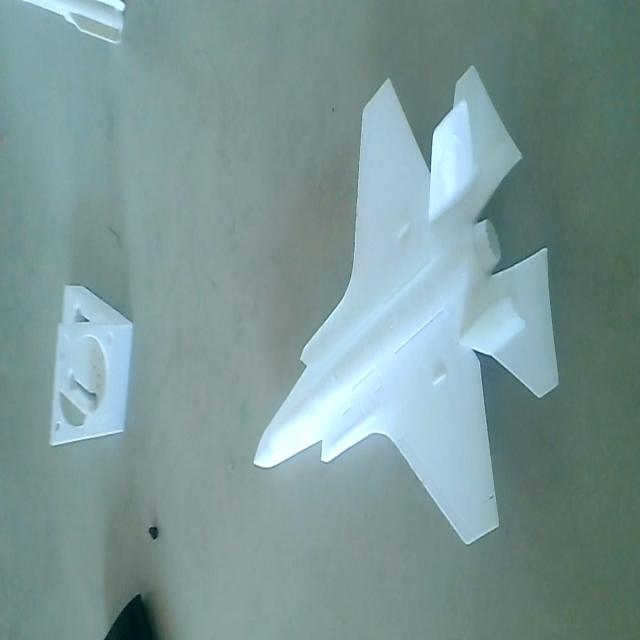Jet: (249, 57, 563, 547)
Rocket: (13, 0, 138, 52)
